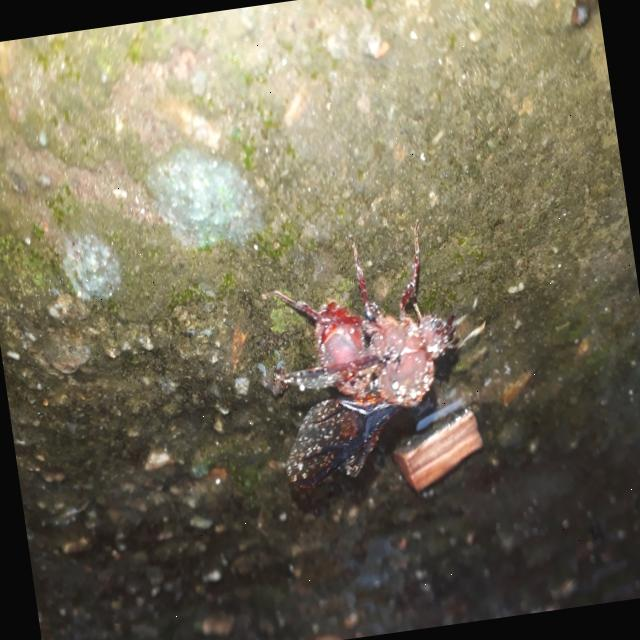Alive-Female-Alate: (253, 212, 506, 494)
